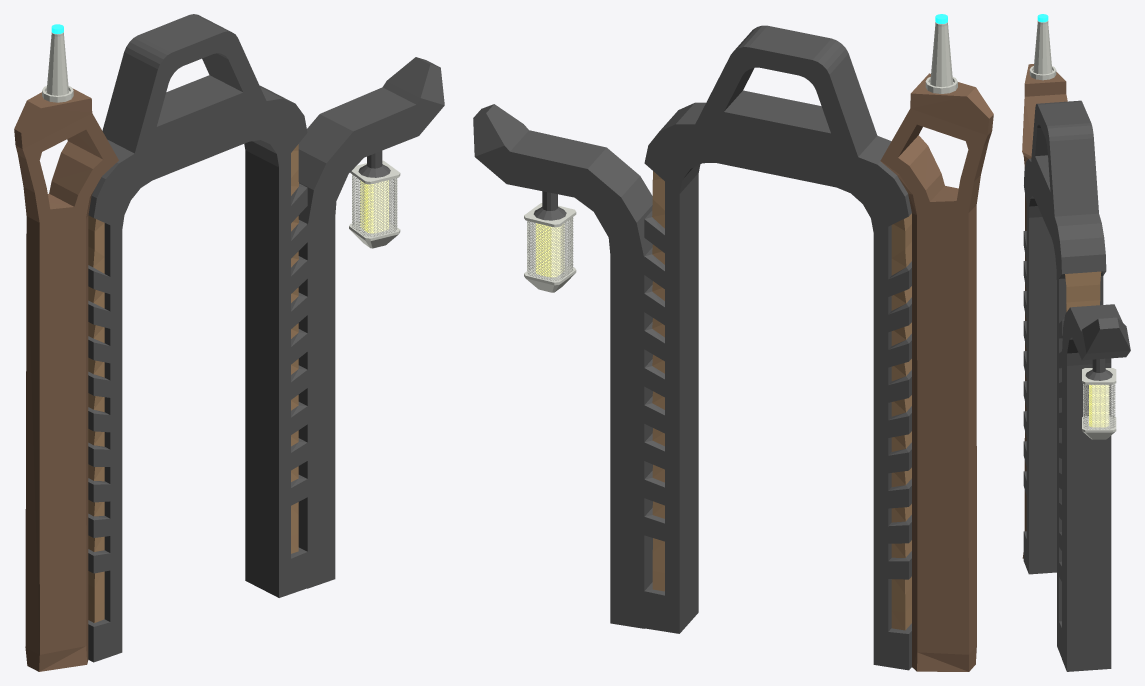
The model's file is portal1.fbx.
3 views of the same model, side by side, from view 1: azimuth 30°, elevation 25°; view 2: azimuth 150°, elevation 25°; view 3: azimuth 270°, elevation 25° (orthographic). The views are drawn at different scales.
Parts seen in each view (by area): view 1: Pyramid.008; view 2: Pyramid.008; view 3: Pyramid.008.
Boxes of the visible parts, box(x1,y1,x2,y2) form: Pyramid.008: box(14, 14, 444, 671); Pyramid.008: box(473, 14, 993, 671); Pyramid.008: box(1022, 14, 1130, 671).
Bounding box in the file's own units: 5610 × 7355 × 1354.
